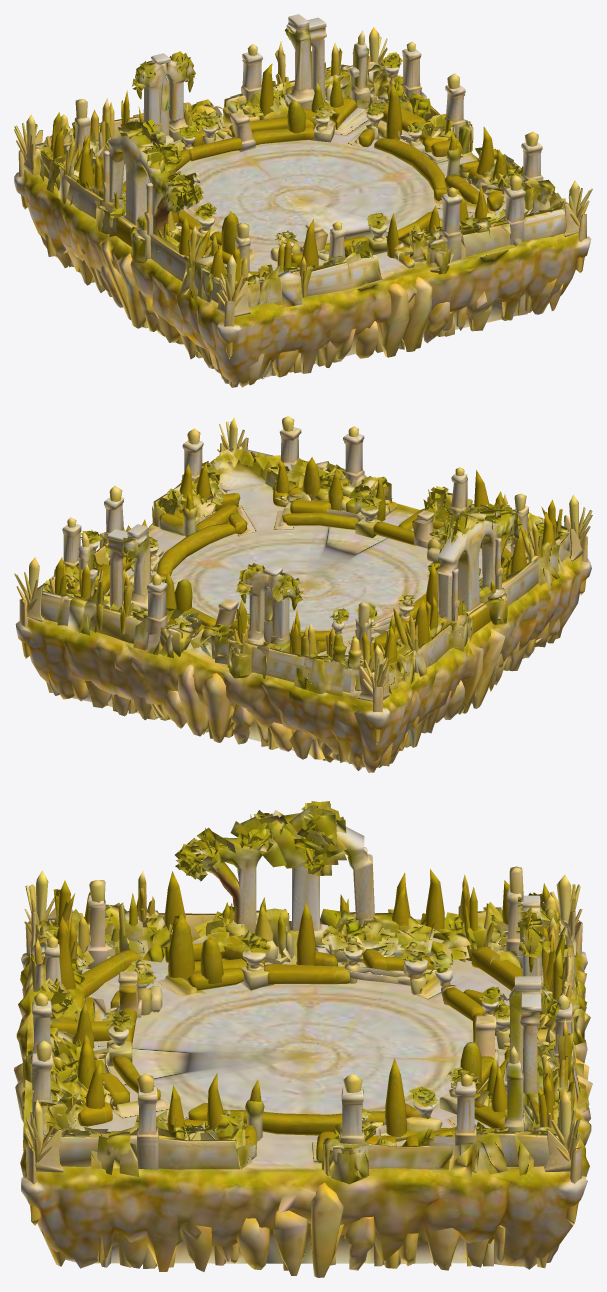
Rendered from light.glb.
3 views of the same model, one above another, from view 1: azimuth 30°, elevation 25°; view 2: azimuth 150°, elevation 25°; view 3: azimuth 270°, elevation 25° (orthographic). The views are drawn at different scales.
Visible parts, largest first — view 1: World normalization; view 2: World normalization; view 3: World normalization.
Part boxes in pixels (x1,y1,x2,y2): World normalization: (14, 14, 592, 387); World normalization: (14, 416, 592, 772); World normalization: (14, 801, 592, 1277).
Bounding box in the file's own units: 19.98 × 9.89 × 20.
Materials: 1 (1 with a texture image).
